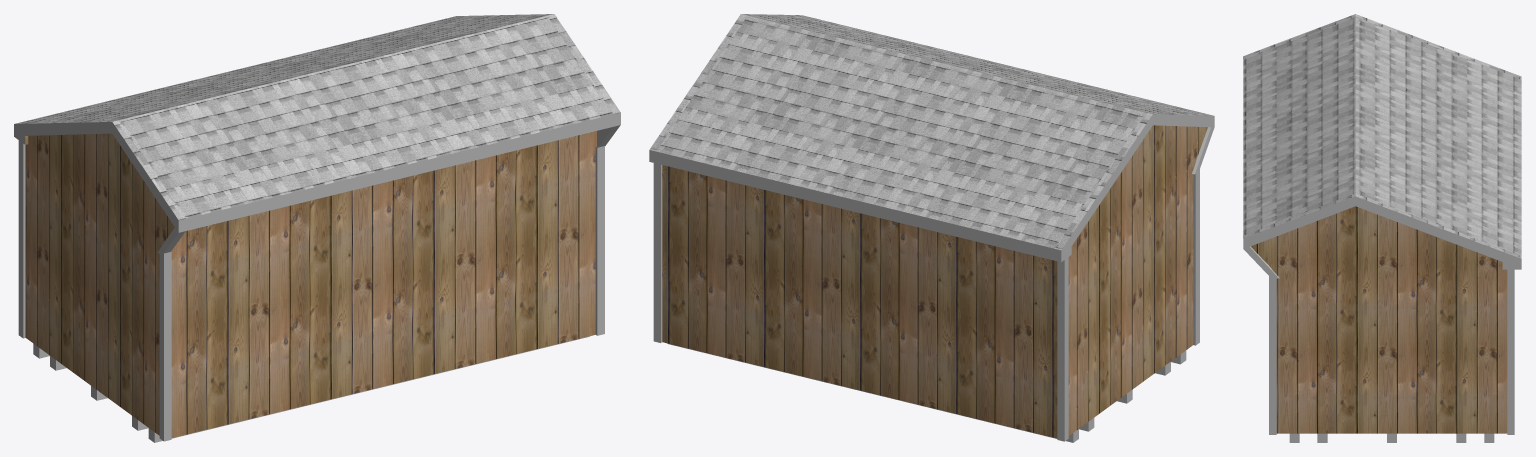
Rendered from Quaker Sheds_8x14.obj.
The picture shows the model from 3 angles, left to right: view 1: azimuth 30°, elevation 25°; view 2: azimuth 150°, elevation 25°; view 3: azimuth 270°, elevation 25°; orthographic projection. The views are drawn at different scales.
Visible parts, largest first — view 1: Shed, Roof, Sides, Trim, Floor; view 2: Shed, Roof, Sides, Trim, Floor; view 3: Roof, Shed, Sides, Trim, Floor.
Boxes of the visible parts, x1,y1,x2,y2 form: Shed: (25,131,596,437); Roof: (15,14,620,220); Sides: (14,112,620,255); Trim: (18,140,604,441); Floor: (33,336,589,442); Shed: (662,125,1207,438); Roof: (649,14,1212,250); Sides: (649,114,1214,262); Trim: (653,163,1199,441); Floor: (667,343,1186,442); Roof: (1243,14,1521,258); Shed: (1251,206,1507,433); Sides: (1243,196,1521,278); Trim: (1269,269,1514,434); Floor: (1289,433,1494,442).
Bounding box in the file's own units: 4.33 × 2.74 × 2.79.
